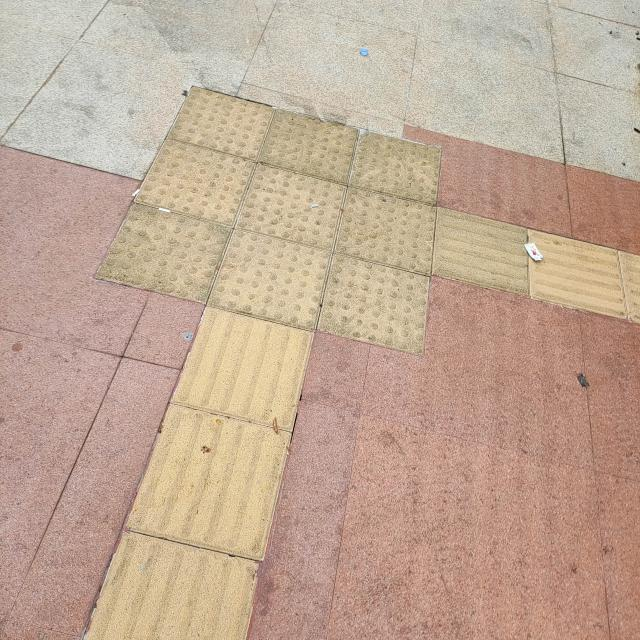kanan: (162, 111, 633, 423)
